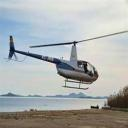helicopter: (5, 27, 110, 94)
